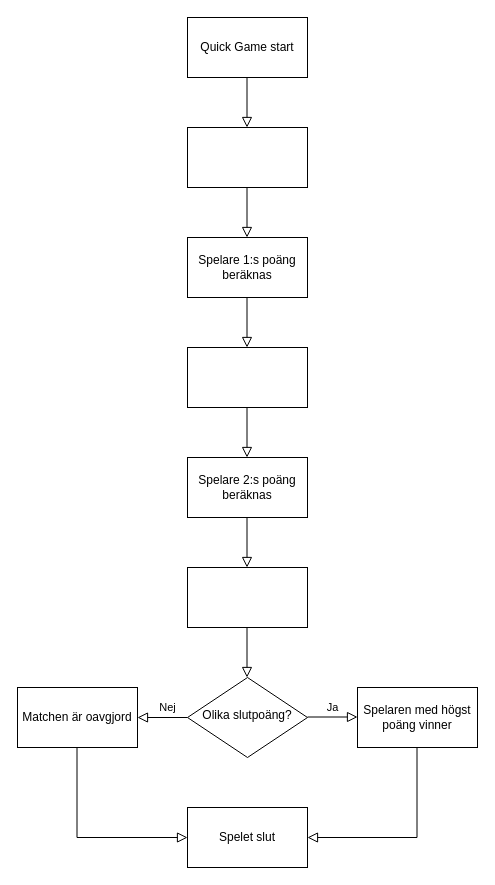
Some shapes in this 495 by 885 pixel diagram are drawn without their labels. The shapes that lost their labels are listed below. From the top down, each one's centre as x and y in pixels, then its label:
At [247,157]: "Spelare 1 kastar klotet".
At [247,377]: "Spelare 2 kastar klotet".
At [247,597]: "Båda spelares slutpoäng jämförs".
